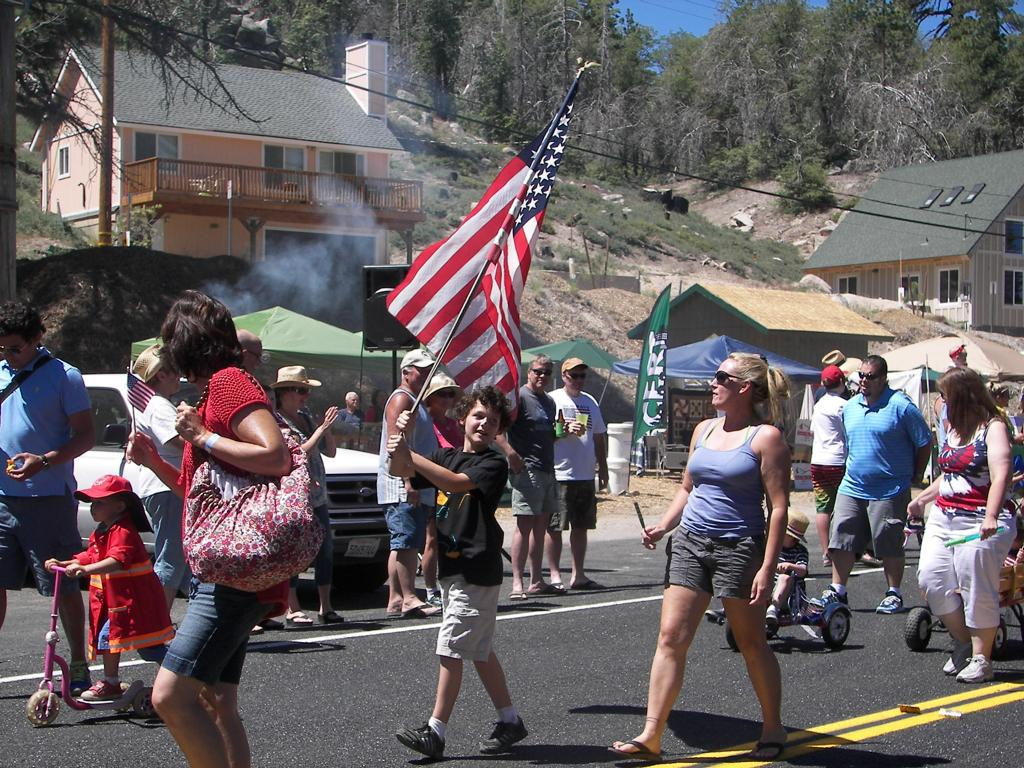face: (465, 400, 500, 448), (710, 361, 740, 408), (1, 331, 35, 369), (91, 491, 117, 523), (245, 338, 263, 380), (410, 362, 432, 393), (530, 364, 552, 392), (166, 359, 183, 395), (565, 366, 589, 390), (859, 367, 878, 396), (939, 387, 959, 413), (289, 387, 310, 411), (437, 388, 456, 413), (261, 389, 274, 414), (360, 388, 374, 406), (1001, 388, 1011, 407), (375, 393, 386, 404), (960, 352, 968, 365), (352, 397, 359, 408)
